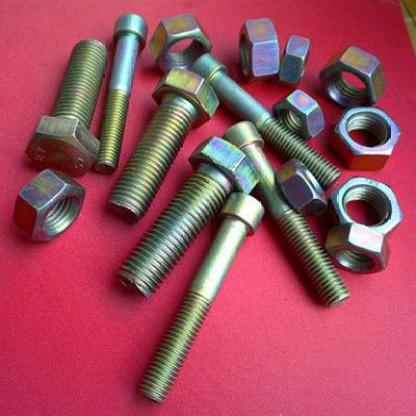FOD: (136, 192, 264, 408), (219, 119, 352, 314), (114, 135, 259, 301), (188, 53, 340, 187), (106, 65, 220, 223), (26, 37, 108, 178), (90, 10, 150, 174), (10, 168, 87, 245), (329, 172, 405, 240), (330, 103, 404, 171), (317, 42, 386, 108), (146, 8, 213, 74), (325, 222, 394, 276), (270, 86, 326, 144), (274, 155, 326, 217), (233, 16, 280, 82), (278, 32, 310, 86)
